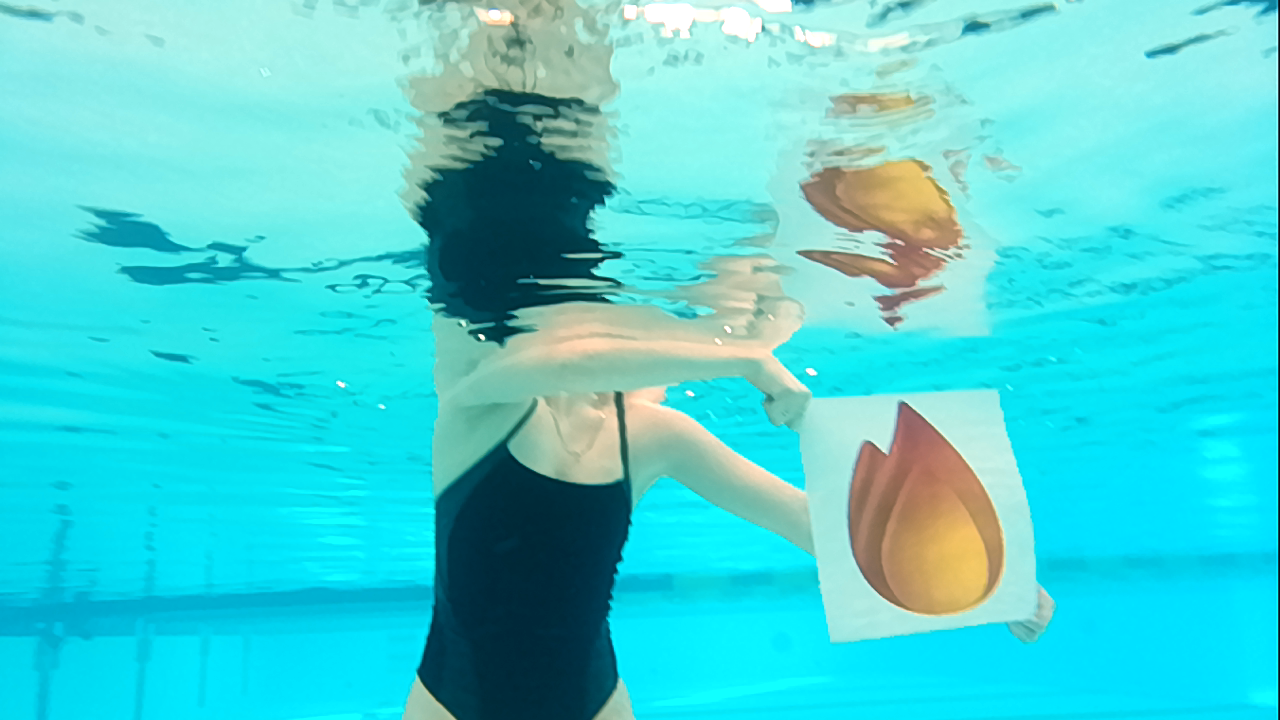fire: (818, 395, 1038, 620)
